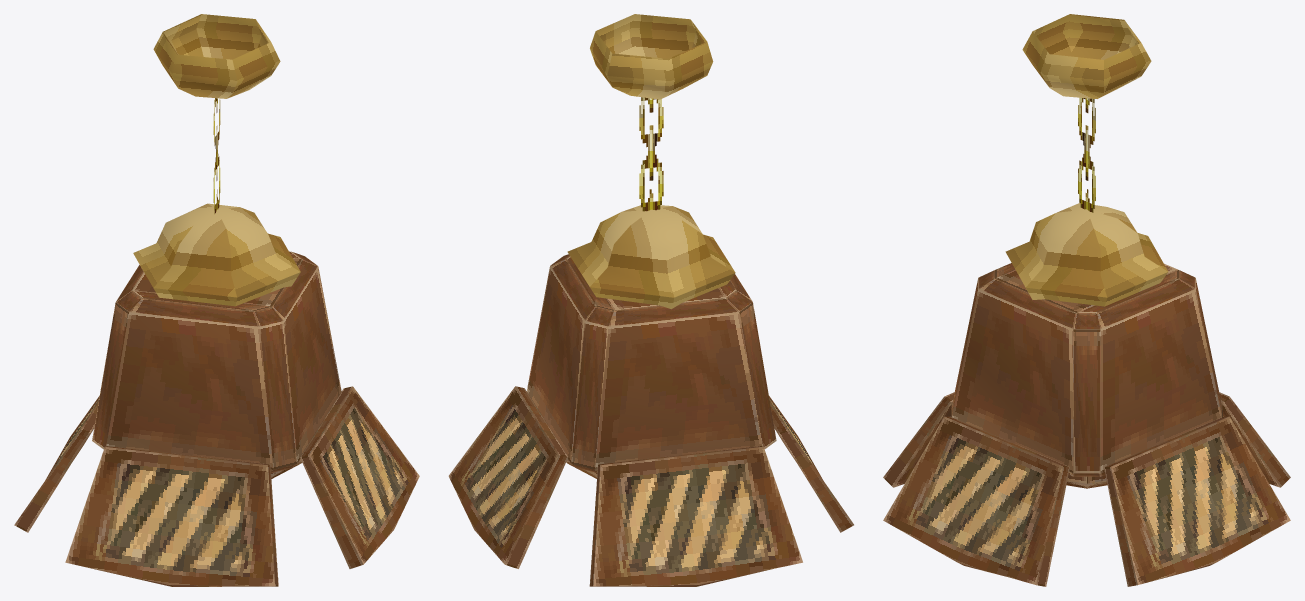
The model's file is syan13.glb.
The picture shows the model from 3 angles, left to right: view 1: azimuth 30°, elevation 25°; view 2: azimuth 150°, elevation 25°; view 3: azimuth 270°, elevation 25°; orthographic projection.
Parts seen in each view (by area): view 1: syan13; view 2: syan13; view 3: syan13.
Part boxes in pixels (<box>): syan13: <box>14,14,419,586</box>; syan13: <box>448,14,853,586</box>; syan13: <box>883,14,1290,586</box>.
Bounding box in the file's own units: 120 × 155 × 120.
3 materials, 3 textured.
